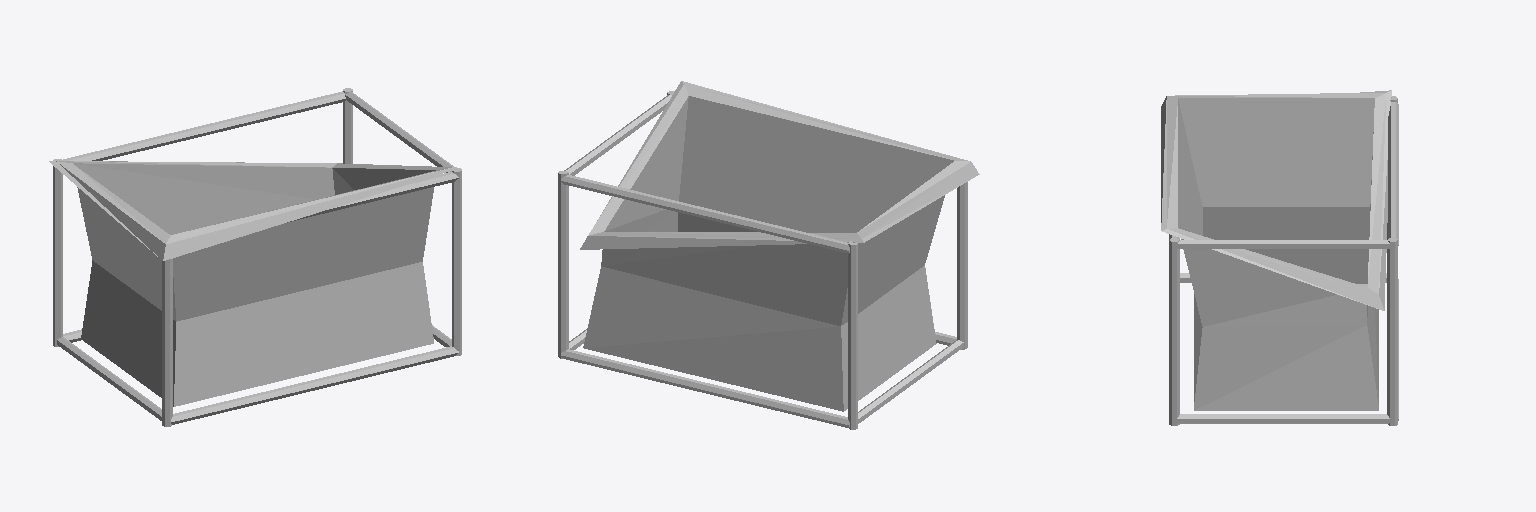
File: laundryBasket2.obj
3 views of the same model, side by side, from view 1: azimuth 30°, elevation 25°; view 2: azimuth 150°, elevation 25°; view 3: azimuth 270°, elevation 25° (orthographic).
Visible parts, largest first — view 1: Cylinder.001; view 2: Cylinder.001; view 3: Cylinder.001.
Part boxes in pixels (bbox=[...]): Cylinder.001: bbox=[49, 88, 461, 426]; Cylinder.001: bbox=[558, 81, 979, 429]; Cylinder.001: bbox=[1161, 90, 1398, 425].
Size of the model in its own units: 6.5 by 3.92 by 4.39.